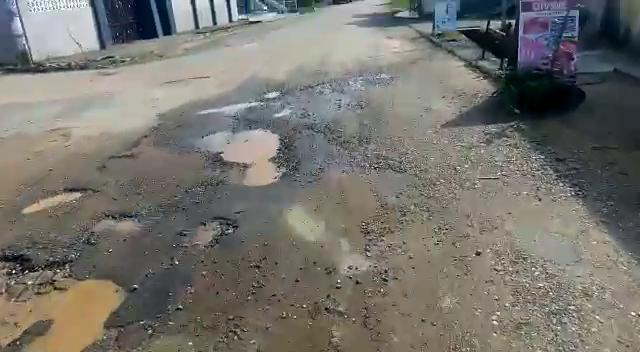pothole: (0, 254, 139, 352), (188, 129, 297, 186), (23, 185, 99, 214), (182, 214, 234, 251), (202, 98, 263, 114), (161, 74, 212, 86)
